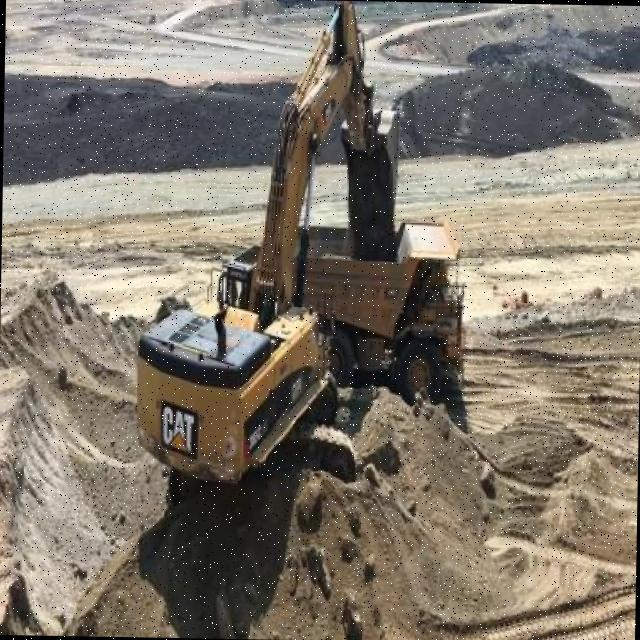Dump Truck: (284, 215, 470, 408)
Excavator: (123, 0, 406, 519)
